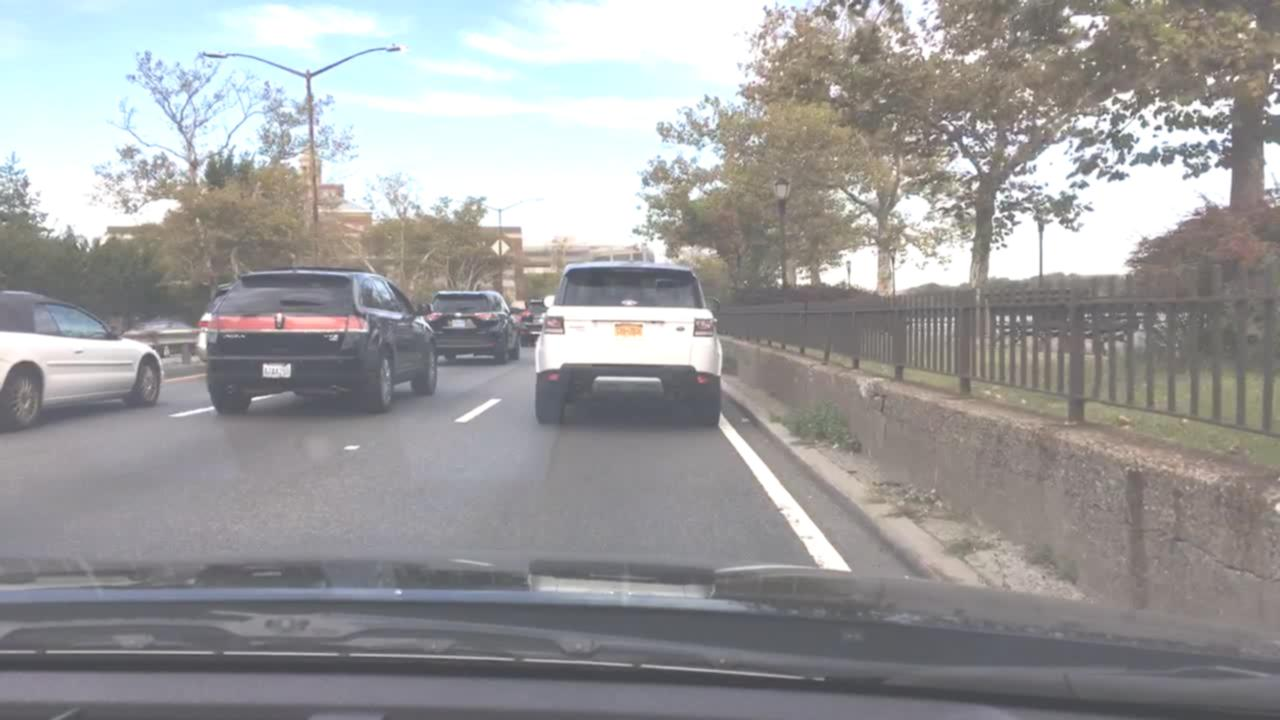lincoln: (267, 306, 288, 337)
